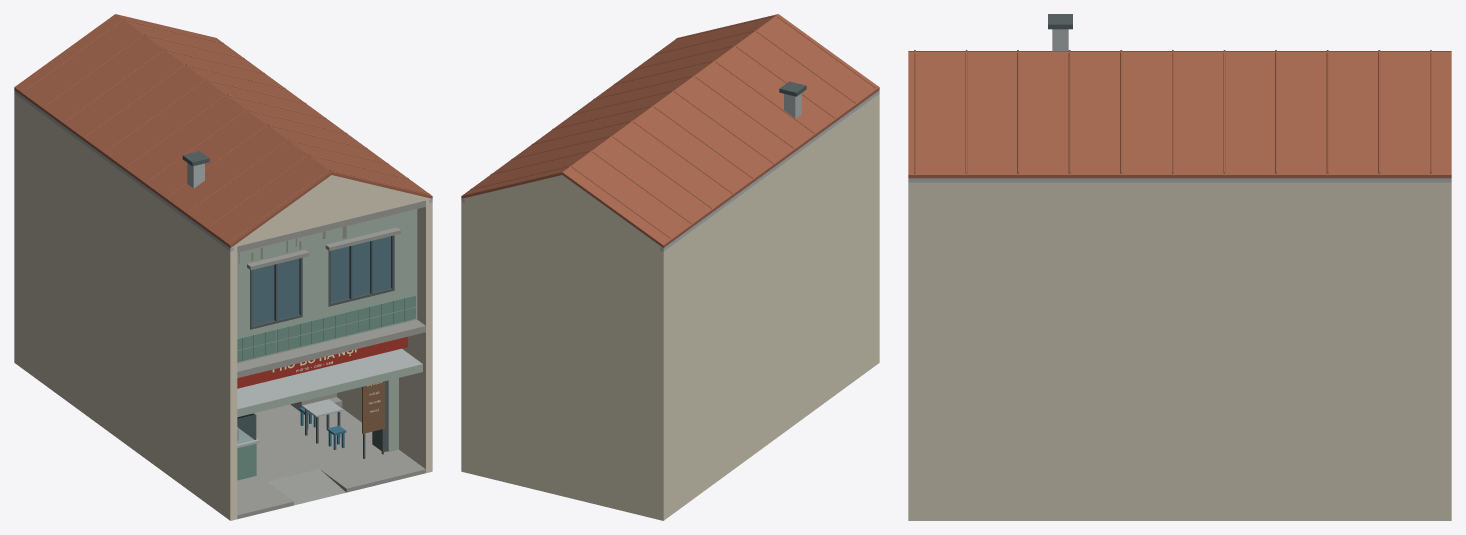
The model's file is VN_RST_A_001.fbx.
The picture shows the model from 3 angles, left to right: view 1: azimuth 30°, elevation 25°; view 2: azimuth 150°, elevation 25°; view 3: azimuth 270°, elevation 25°; orthographic projection. The views are drawn at different scales.
Visible parts, largest first — view 1: VN_RST_A_001__Party_Walls, VN_RST_A_001__Pitched_Roof_0, VN_RST_A_001__Pitched_Roof_1, VN_RST_A_001__Upper_Wall, VN_RST_A_001__Ground_Slab, VN_RST_A_001__Roof_Gable_Front, VN_RST_A_001__Ceramic_Tile_Dado, VN_RST_A_001__Forecourt_Platforms, VN_RST_A_001__Awning, VN_RST_A_001__Old_Window_R_Glass, VN_RST_A_001__Slab_01, VN_RST_A_001__Old_Window_L_Glass (+11 smaller); view 2: VN_RST_A_001__Party_Walls, VN_RST_A_001__Pitched_Roof_0, VN_RST_A_001__Pitched_Roof_1, VN_RST_A_001__Roof_Gable_Back, VN_RST_A_001__Roof_Edge_Flashing; view 3: VN_RST_A_001__Party_Walls, VN_RST_A_001__Pitched_Roof_1, VN_RST_A_001__Roof_Edge_Flashing.
Part boxes in pixels (bbox=[...]): VN_RST_A_001__Party_Walls: bbox=[14, 94, 432, 520]; VN_RST_A_001__Pitched_Roof_0: bbox=[14, 14, 331, 247]; VN_RST_A_001__Pitched_Roof_1: bbox=[116, 14, 432, 198]; VN_RST_A_001__Upper_Wall: bbox=[237, 209, 417, 363]; VN_RST_A_001__Ground_Slab: bbox=[237, 404, 387, 488]; VN_RST_A_001__Roof_Gable_Front: bbox=[231, 175, 431, 247]; VN_RST_A_001__Ceramic_Tile_Dado: bbox=[237, 295, 415, 362]; VN_RST_A_001__Forecourt_Platforms: bbox=[237, 449, 425, 519]; VN_RST_A_001__Awning: bbox=[237, 348, 422, 408]; VN_RST_A_001__Old_Window_R_Glass: bbox=[331, 236, 390, 302]; VN_RST_A_001__Slab_01: bbox=[237, 319, 425, 377]; VN_RST_A_001__Old_Window_L_Glass: bbox=[252, 258, 299, 325]; VN_RST_A_001__Party_Walls: bbox=[461, 94, 879, 520]; VN_RST_A_001__Pitched_Roof_0: bbox=[562, 14, 879, 247]; VN_RST_A_001__Pitched_Roof_1: bbox=[461, 14, 777, 198]; VN_RST_A_001__Roof_Gable_Back: bbox=[462, 175, 662, 247]; VN_RST_A_001__Roof_Edge_Flashing: bbox=[461, 90, 879, 251]; VN_RST_A_001__Party_Walls: bbox=[908, 182, 1451, 520]; VN_RST_A_001__Pitched_Roof_1: bbox=[908, 52, 1451, 178]; VN_RST_A_001__Roof_Edge_Flashing: bbox=[908, 178, 1451, 182].
Size of the model in its own units: 5.4 by 8.28 by 10.
